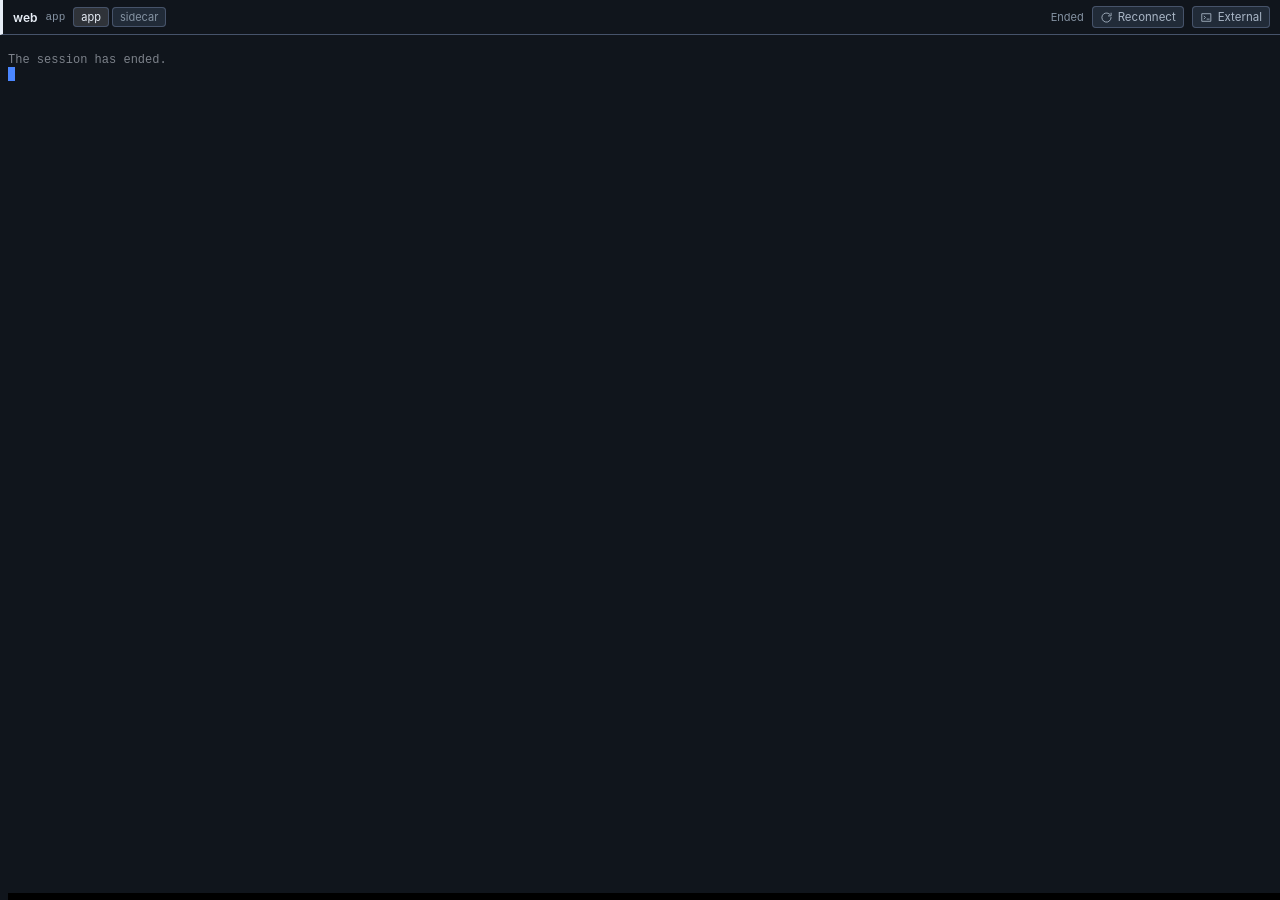
Test: a session that ends offers to be opened again
This screenshot has width=1280, height=900.
Check: the text "Ended" is shown, box x1=1051 y1=10 x2=1084 y2=24
Click the button "Reconnect". click: (1138, 17)
box: x1=1092 y1=6 x2=1184 y2=28
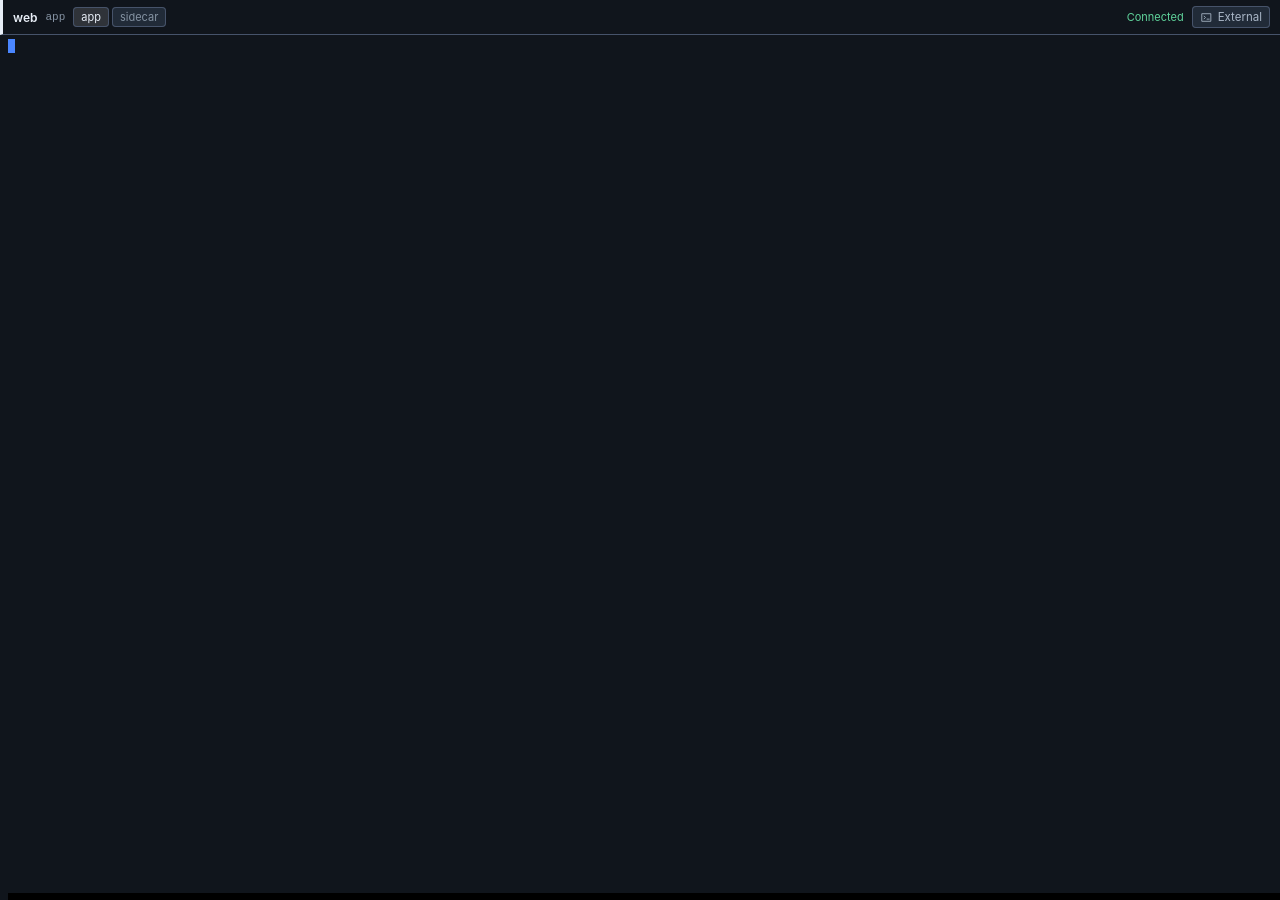
Check: the text "Connected" is shown, box x1=1127 y1=10 x2=1184 y2=24
